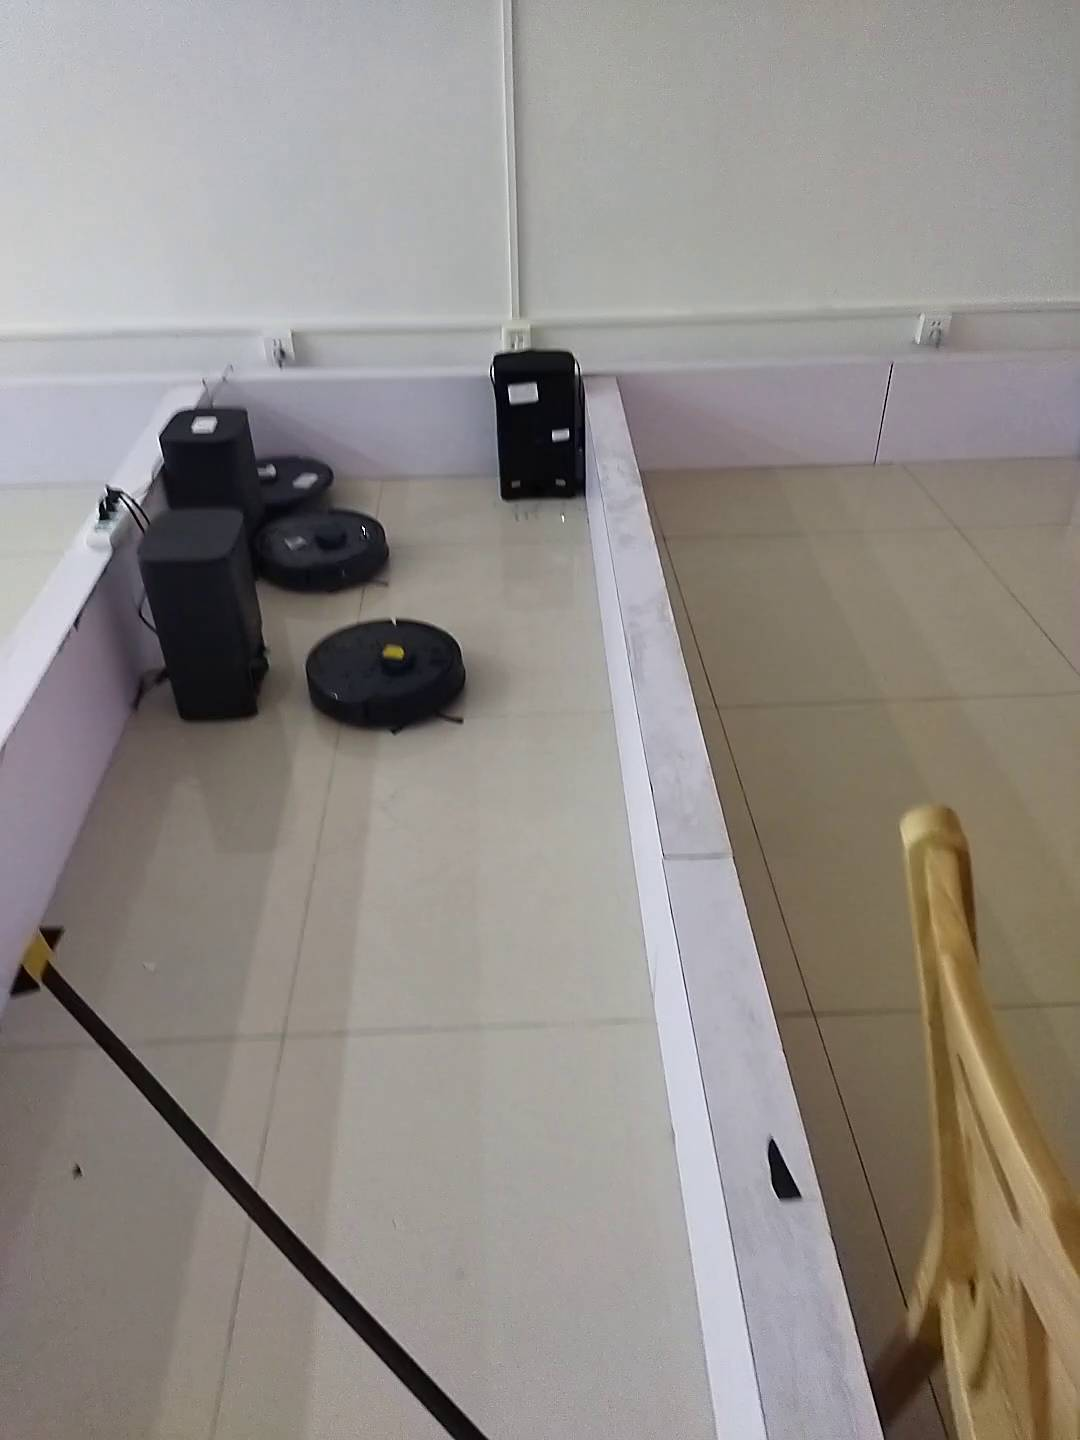dust collecting barrel: (136, 505, 267, 723), (490, 345, 583, 503)
